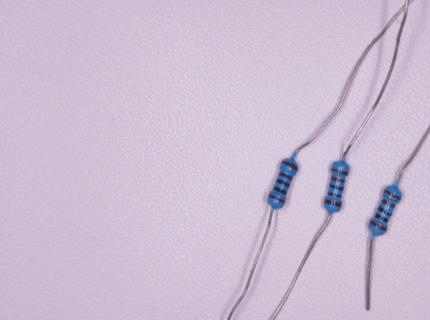Black band: (276, 178, 290, 189), (374, 213, 389, 223), (378, 206, 392, 216), (273, 186, 287, 195)
Brown band: (369, 220, 387, 232), (383, 189, 401, 200), (282, 161, 299, 172), (268, 195, 285, 205), (381, 199, 396, 209), (278, 172, 293, 181)
